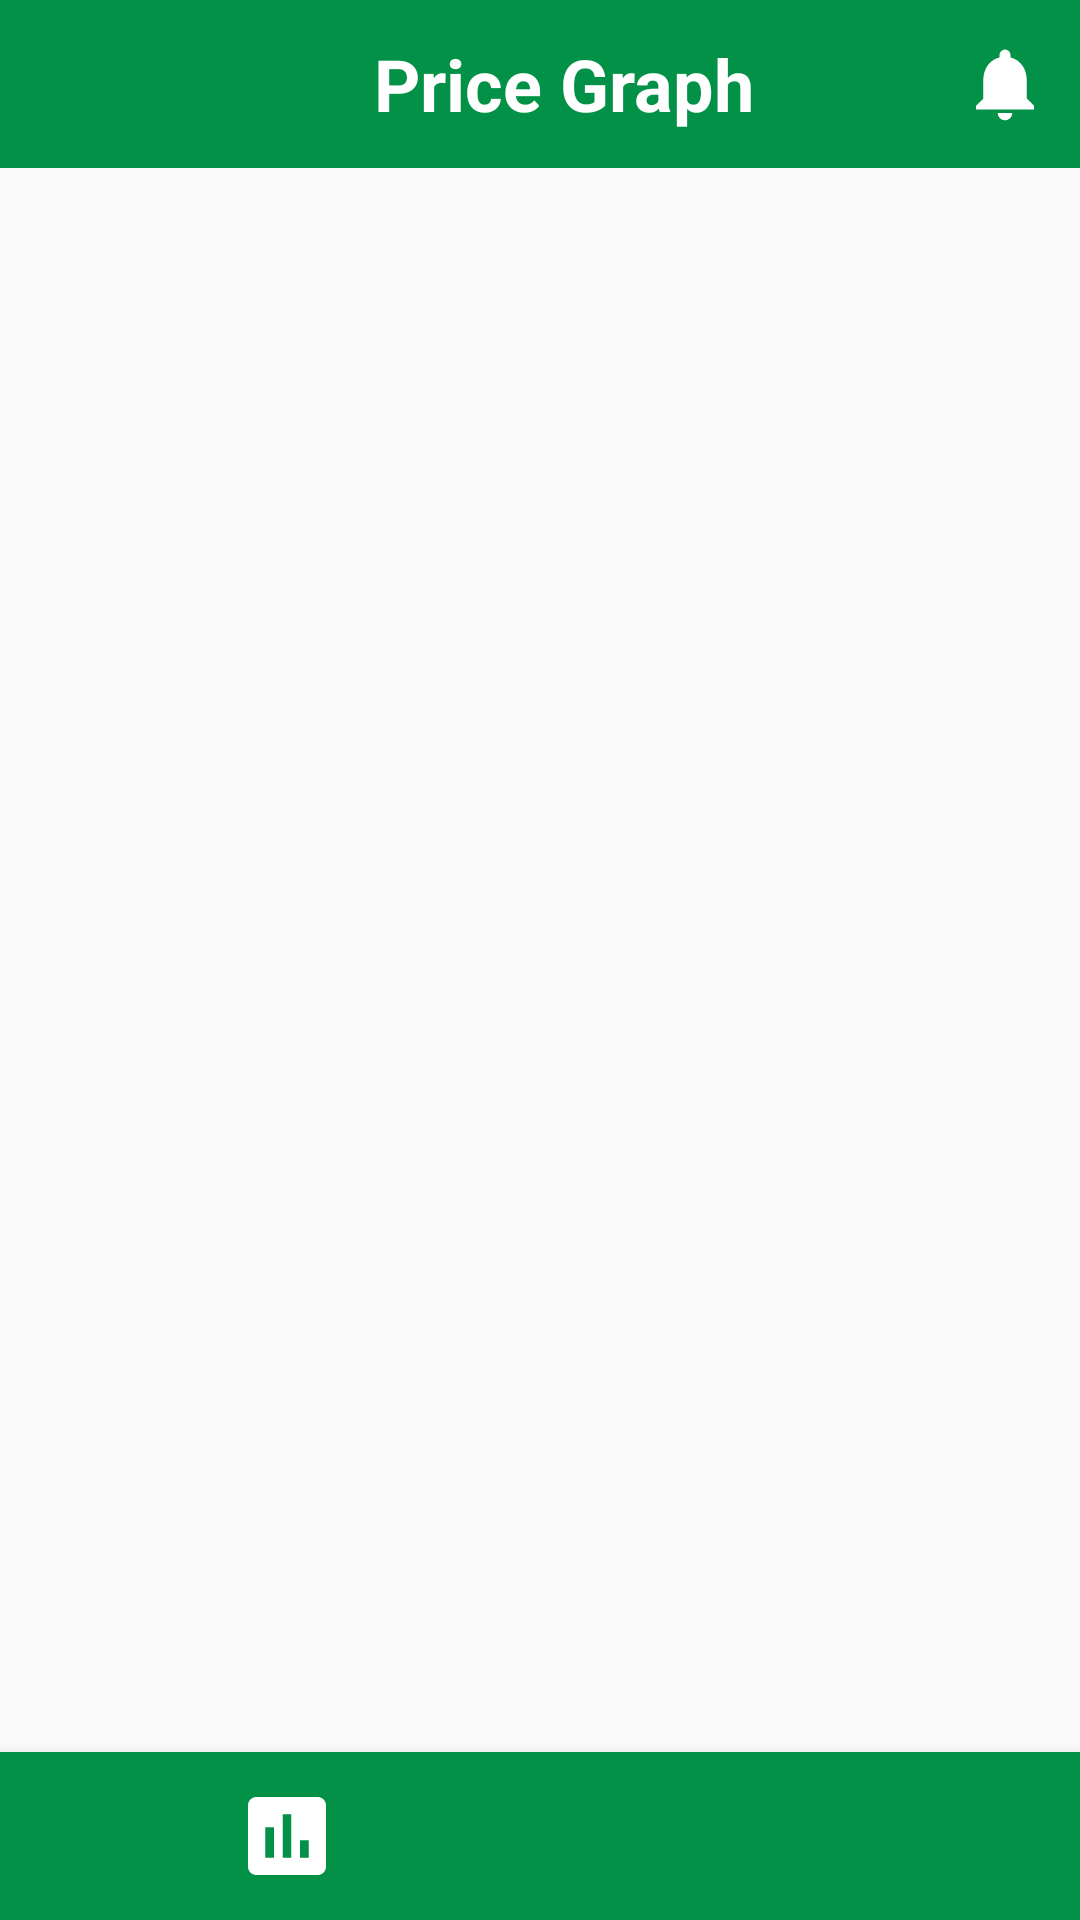

Icons on this 1080px×1920px Android screen, each with the point to tap as [x,y]:
alert: [1005,85]
